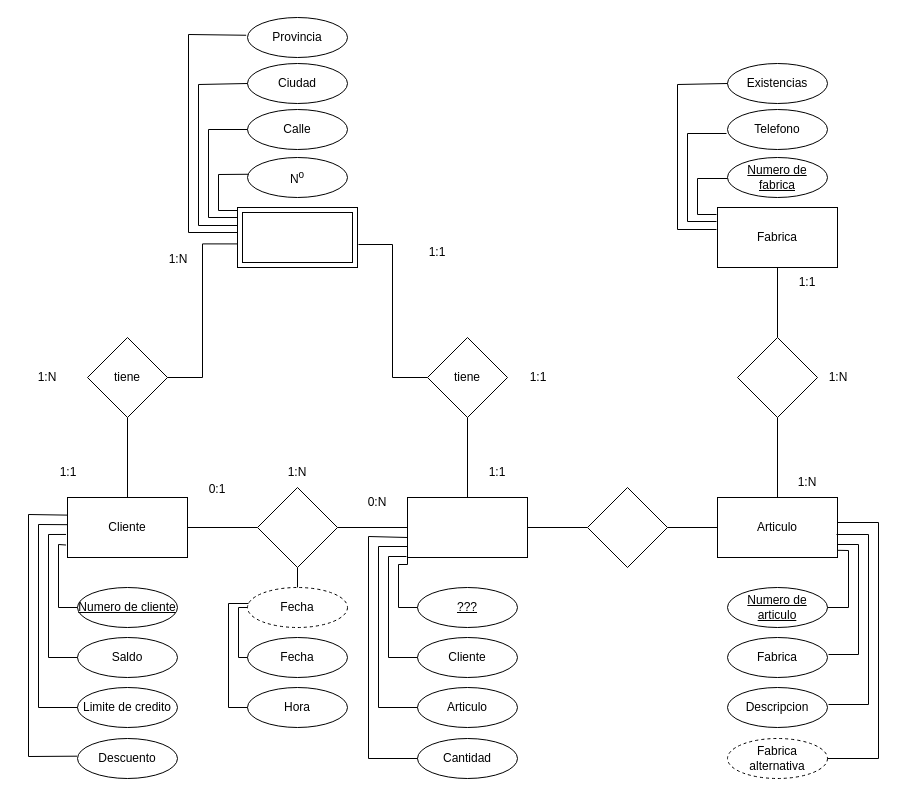
Some shapes in this 897 by 796 pixel diagram are drawn without their labels. The shapes that lost their labels are listed below. From the top down, each one's centre as x and y in pixels, then its label:
At point (297, 237): "Direccion".
At point (777, 377): "provee".
At point (297, 527): "hace".
At point (467, 527): "Pedido".
At point (627, 527): "incluye".
